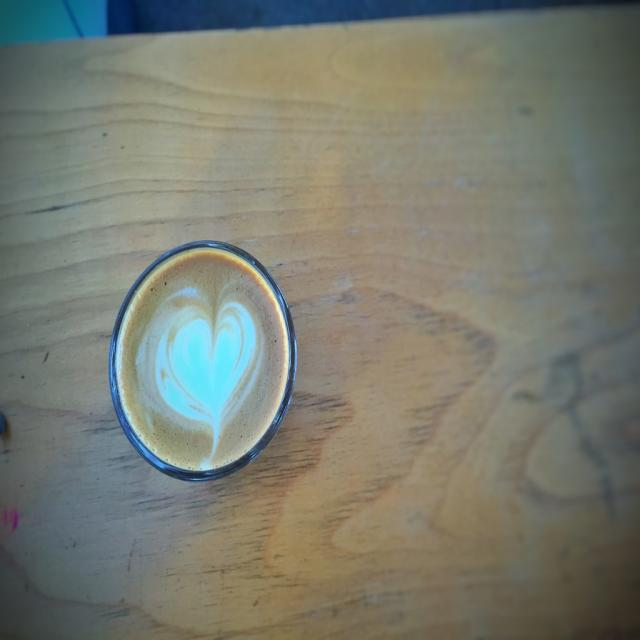latte: (109, 239, 296, 482)
